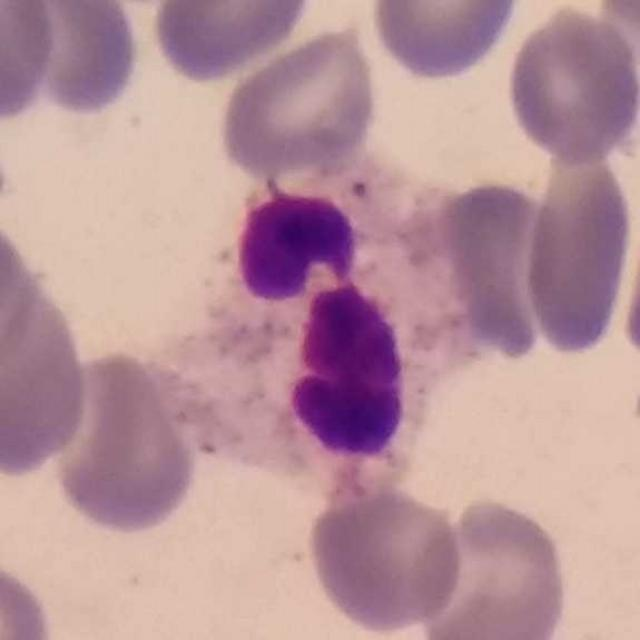Neutrophil: (153, 145, 477, 500)
RBC: (46, 345, 206, 539), (212, 20, 383, 186), (516, 143, 638, 360), (423, 175, 562, 364), (302, 483, 468, 637), (411, 492, 574, 640), (502, 3, 640, 167), (0, 257, 93, 482), (1, 0, 144, 122), (147, 0, 318, 83), (365, 0, 527, 83), (0, 0, 60, 126), (0, 208, 41, 382), (0, 554, 58, 640), (616, 186, 640, 383), (591, 0, 640, 76)
